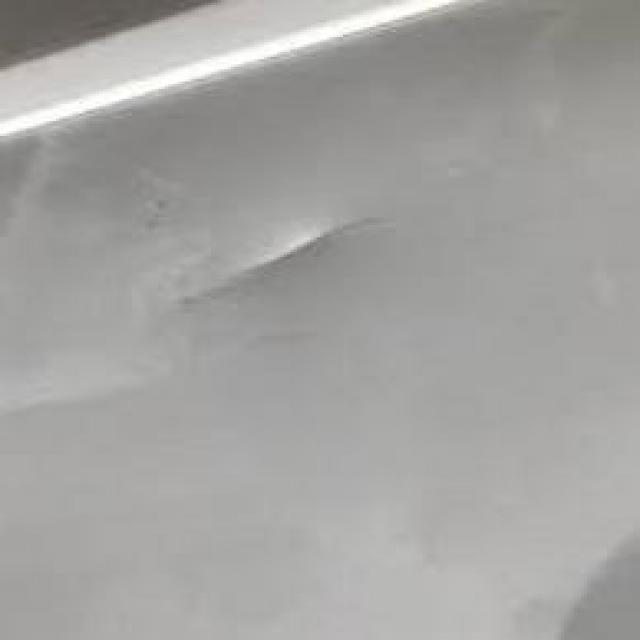dent: (164, 198, 380, 338)
